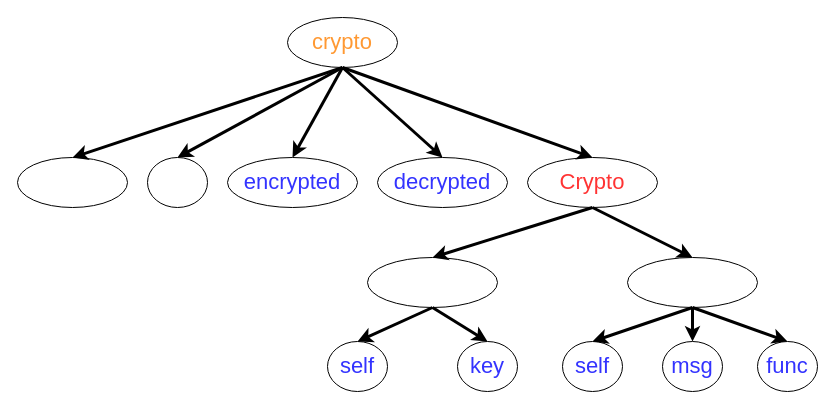
The diagram is 835 pixels wide and 409 high, and some of its shapes have lost their labels. Each missing label, with the box of its shape:
__init__: (366, 256, 498, 308)
apply: (626, 256, 758, 308)
crp: (146, 156, 208, 208)
cryptops: (16, 156, 128, 208)
